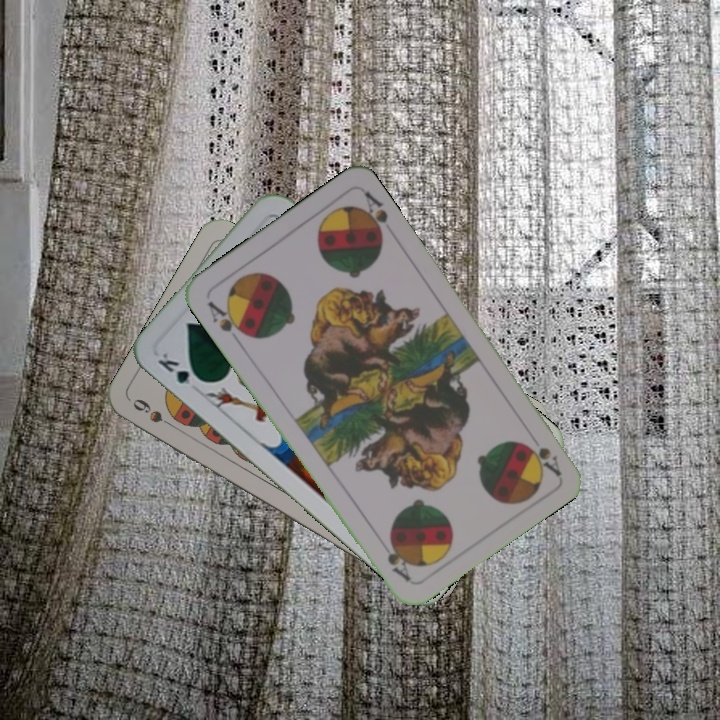GK: (153, 348, 207, 389)
S9: (128, 394, 182, 433)
SA: (203, 296, 251, 347), (521, 438, 564, 478)
